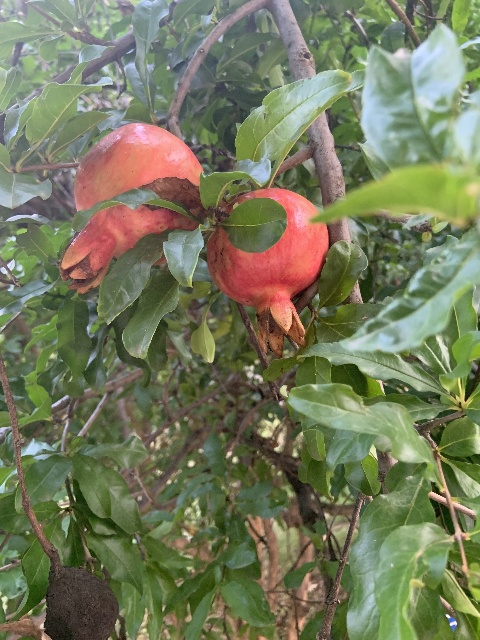ripe: (60, 122, 203, 292), (206, 187, 329, 356)
